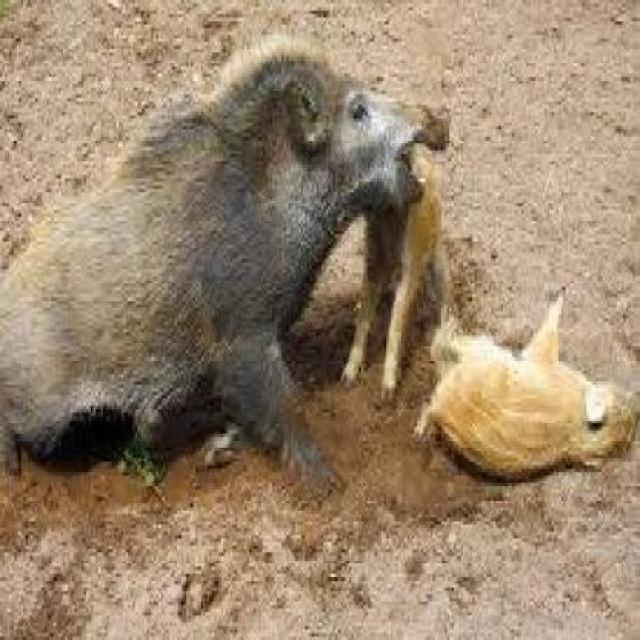wildboar: (0, 29, 455, 503), (407, 275, 640, 487), (333, 125, 458, 404)
